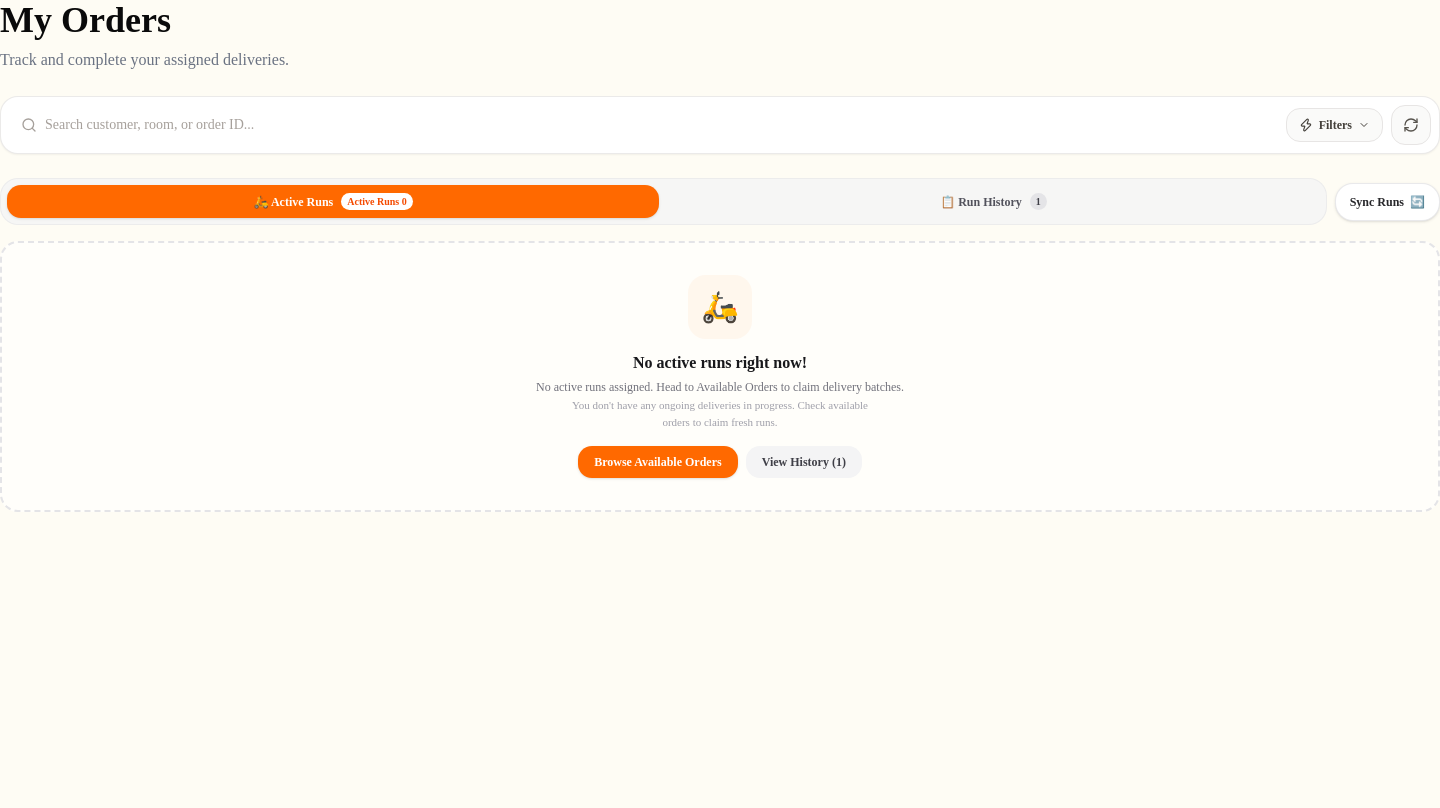
Test: DeliveryOrdersPage Dual-Tab Segregation › renders the empty state card when there are no active runs and provides link to browse available and switch to history
Expected: the heading "No active runs right now!" is shown, top-left (633, 351), bottom-right (807, 375)
Expected: the text "No active runs assigned. Head to Available Orders to claim delivery batches." is shown, top-left (536, 379), bottom-right (904, 395)
Click the button "View History (1)".
click(804, 462)  # box top-left (746, 446), bottom-right (862, 478)
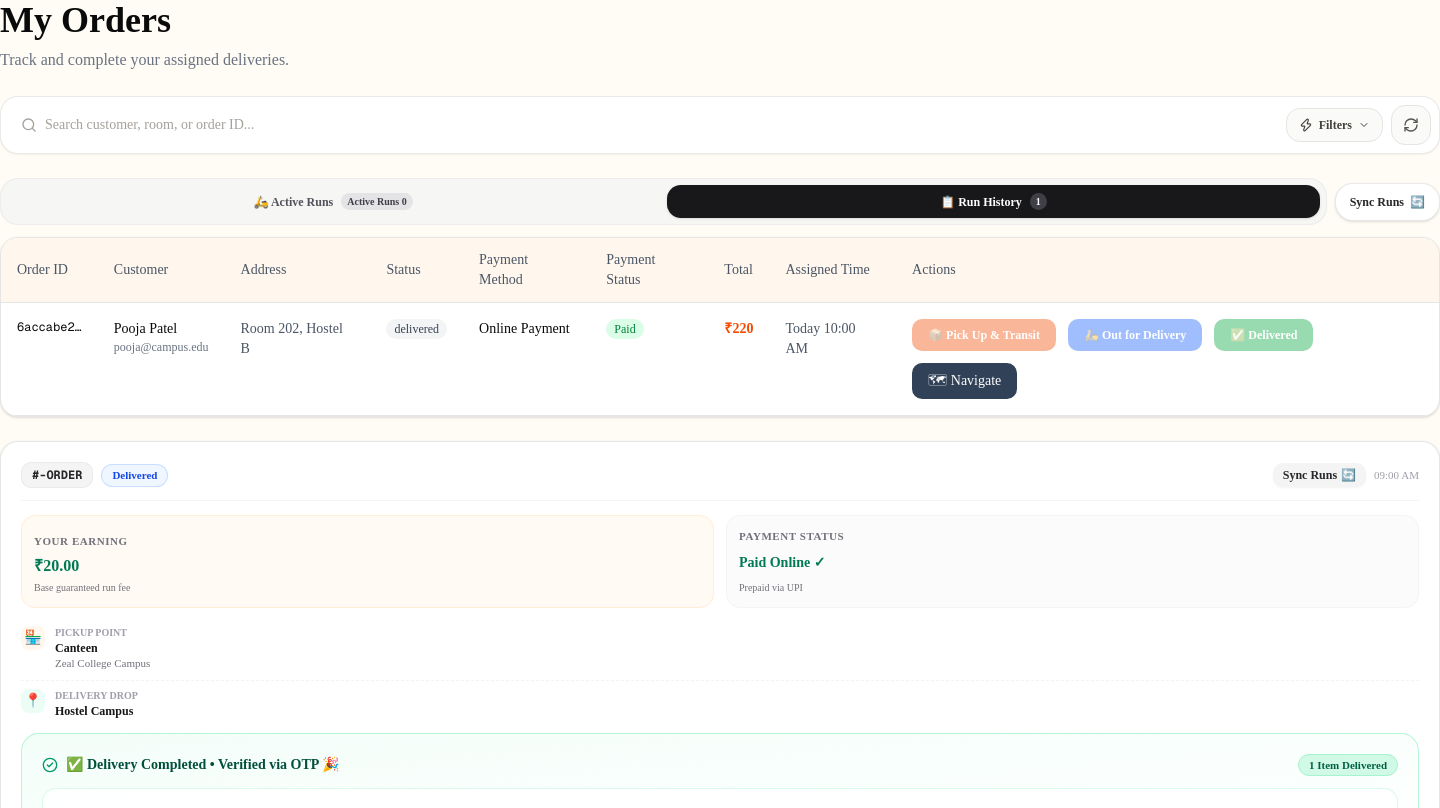
Expected: the text "Pooja Patel" is shown, top-left (114, 321), bottom-right (177, 336)
Expected: the heading "No active runs right now!" is gone
